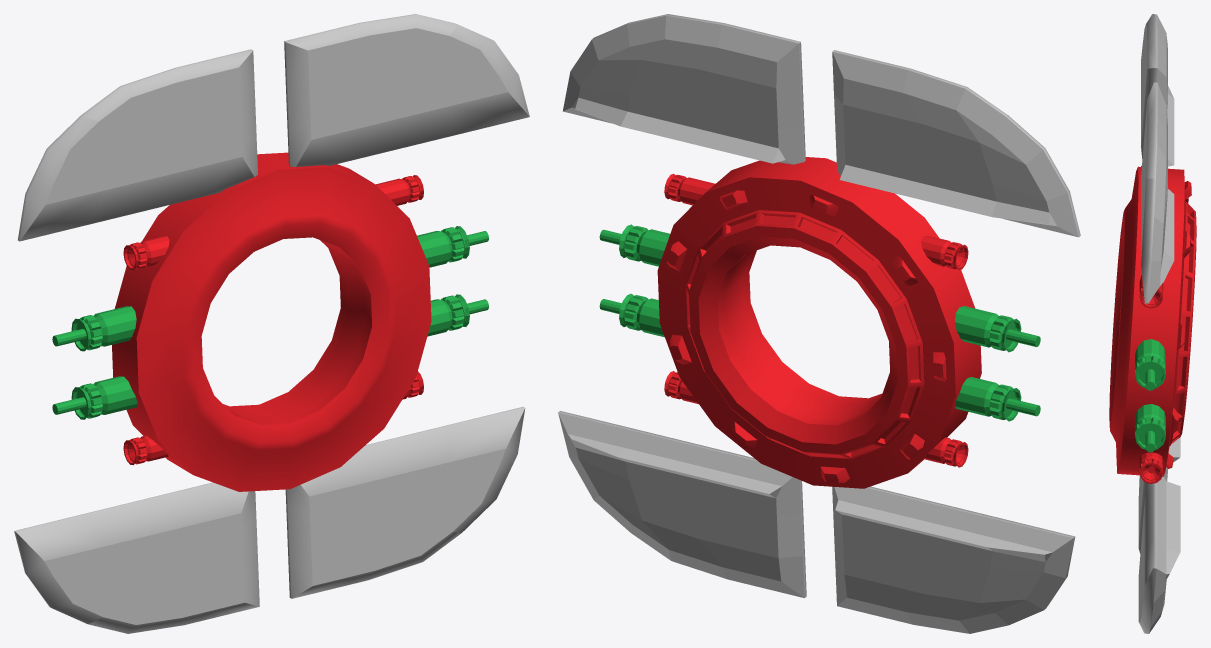
Rendered from ship31_single.FBX.
The picture shows the model from 3 angles, left to right: view 1: azimuth 30°, elevation 25°; view 2: azimuth 150°, elevation 25°; view 3: azimuth 270°, elevation 25°; orthographic projection. The views are drawn at different scales.
Visible parts, largest first — view 1: ship31; view 2: ship31; view 3: ship31.
Part boxes in pixels (bbox=[...]): ship31: bbox=[14, 14, 529, 633]; ship31: bbox=[558, 14, 1080, 633]; ship31: bbox=[1109, 14, 1196, 633].
Bounding box in the file's own units: 27.43 × 28.4 × 4.51.
Materials: 3 (3 with a texture image).
